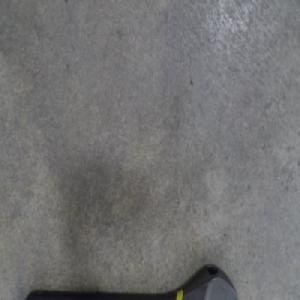AdjustableWrench: (27, 265, 237, 300)
